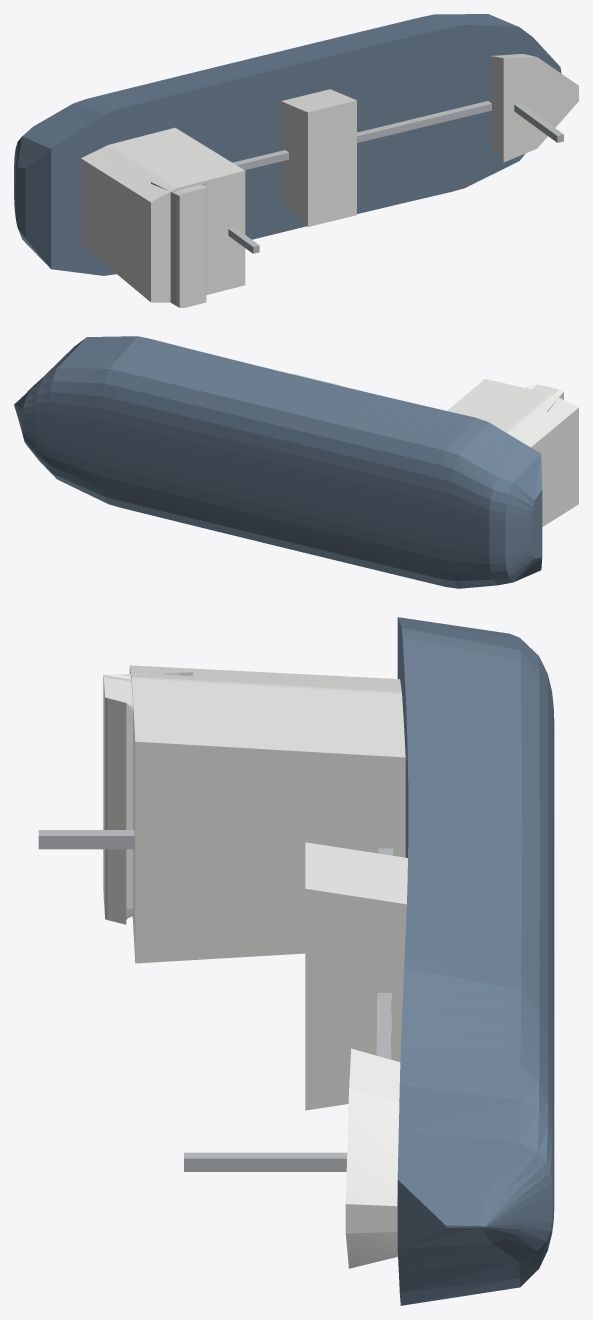
The model's file is loft-tanker-highside.glb.
3 renders of one model, top to bottom at view 1: azimuth 30°, elevation 25°; view 2: azimuth 150°, elevation 25°; view 3: azimuth 270°, elevation 25°, orthographic. The views are drawn at different scales.
Visible parts, largest first — view 1: tanker-loft-highside; view 2: tanker-loft-highside; view 3: tanker-loft-highside.
Boxes of the visible parts, x1,y1,x2,y2 form: tanker-loft-highside: [14, 14, 578, 307]; tanker-loft-highside: [14, 336, 578, 588]; tanker-loft-highside: [38, 617, 554, 1305].
Bounding box in the file's own units: 1.96 × 0.575 × 0.8447.
